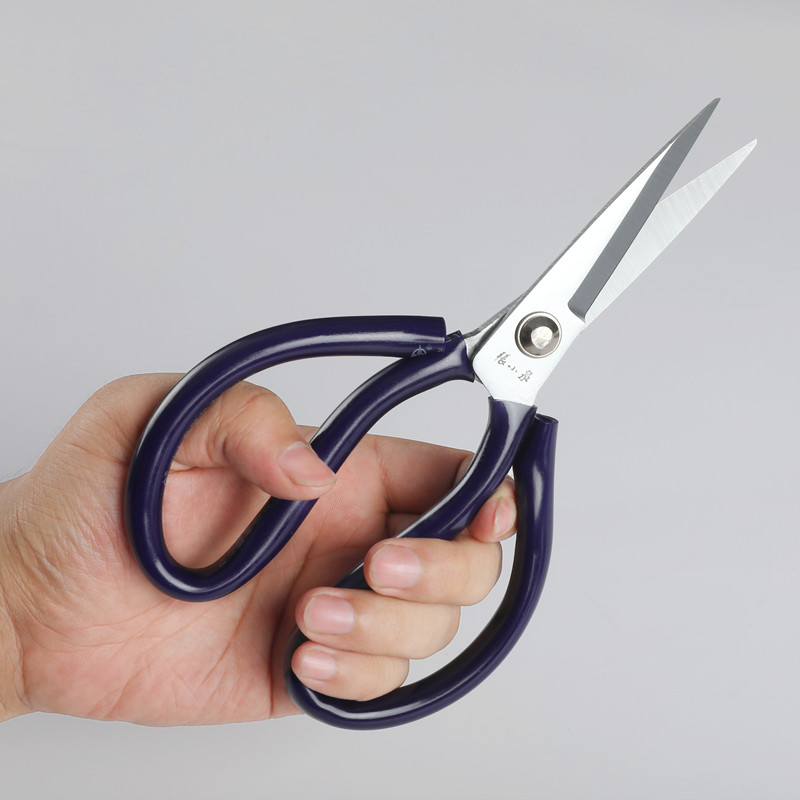scissors: (103, 93, 781, 735)
